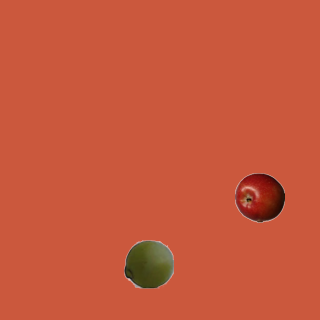Apple Braeburn: (234, 172, 284, 222)
Grape White 4: (123, 238, 173, 288)
